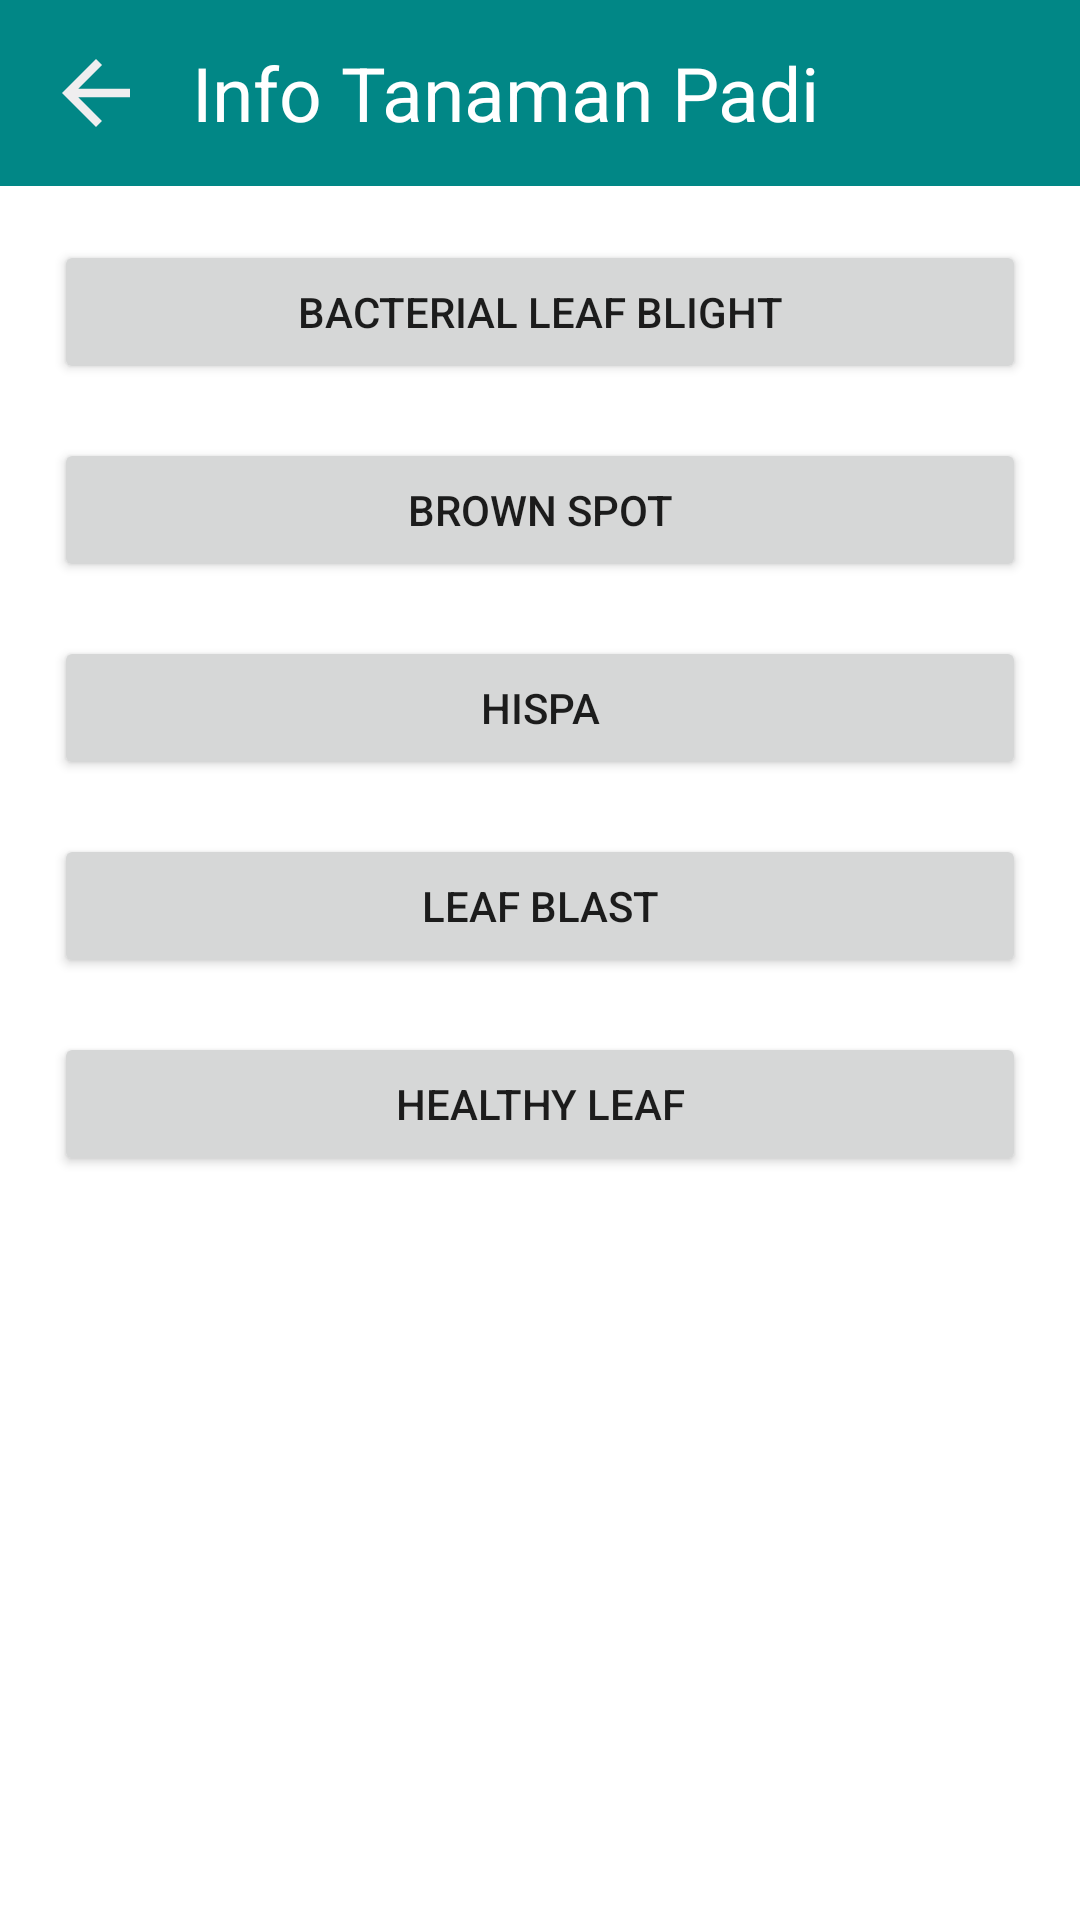

Named icons in this screenshot (1080×1920) and their bounding boxes, (x1, y1, x2, y2):
back: (62, 59, 130, 127)
